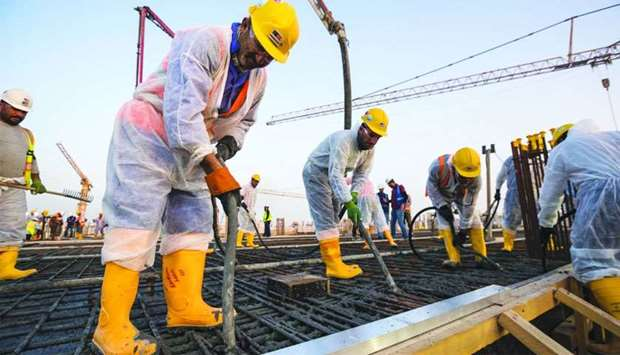epi: (92, 1, 301, 355), (536, 119, 620, 324), (302, 108, 390, 280), (426, 145, 500, 272), (1, 86, 43, 285), (494, 134, 544, 256), (236, 173, 267, 248), (384, 177, 411, 238), (375, 185, 390, 225), (92, 212, 110, 241), (72, 210, 88, 240), (24, 207, 37, 241), (47, 211, 64, 236), (35, 210, 47, 239), (66, 210, 77, 238), (263, 203, 272, 236)
